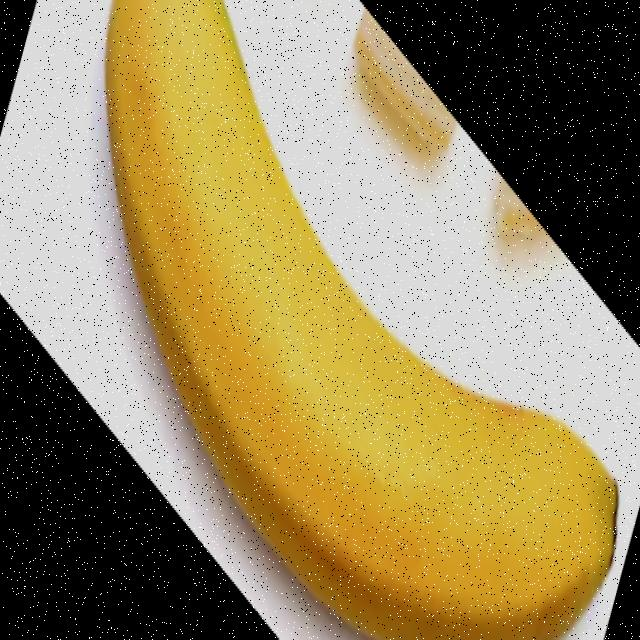god quality banana: (104, 2, 618, 637)
